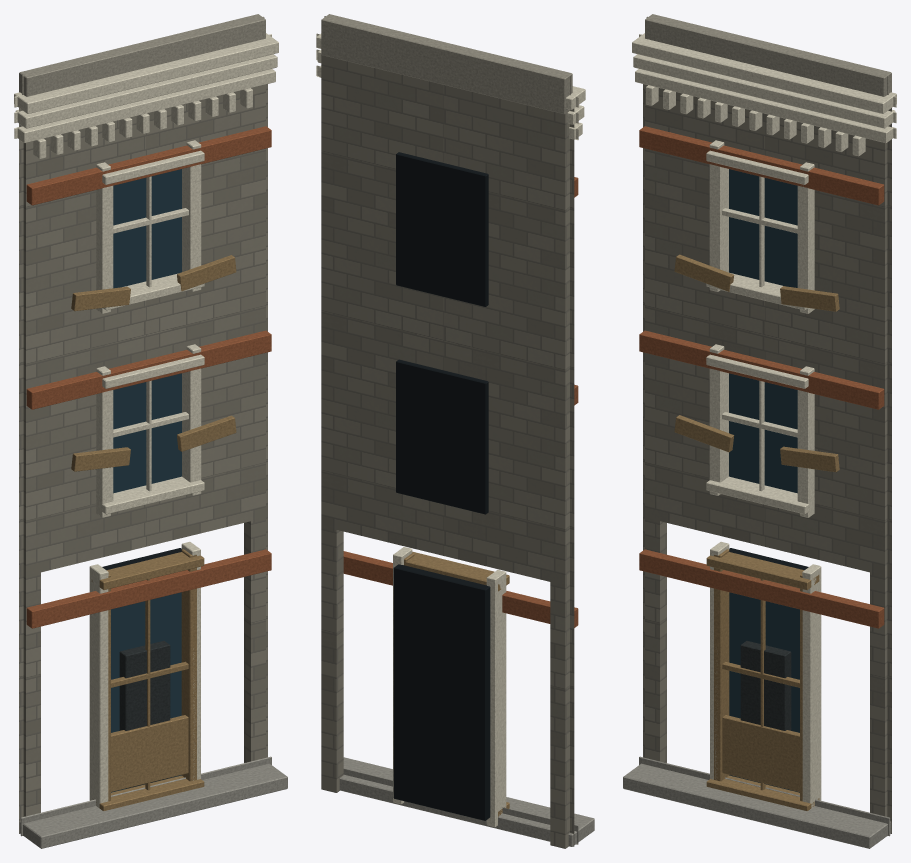
The model's file is WHSE22_lod1.glb.
The picture shows the model from 3 angles, left to right: view 1: azimuth 30°, elevation 25°; view 2: azimuth 150°, elevation 25°; view 3: azimuth 330°, elevation 25°; orthographic projection.
Parts seen in each view (by area): view 1: WHSE22_FRONT_LOD1; view 2: WHSE22_FRONT_LOD1; view 3: WHSE22_FRONT_LOD1.
Part boxes in pixels (bbox=[...]): WHSE22_FRONT_LOD1: bbox=[14, 14, 287, 848]; WHSE22_FRONT_LOD1: bbox=[316, 14, 594, 848]; WHSE22_FRONT_LOD1: bbox=[623, 14, 896, 848].
Bounding box in the file's own units: 3.44 × 9.66 × 0.68.
Materials: 10 (8 with a texture image).
